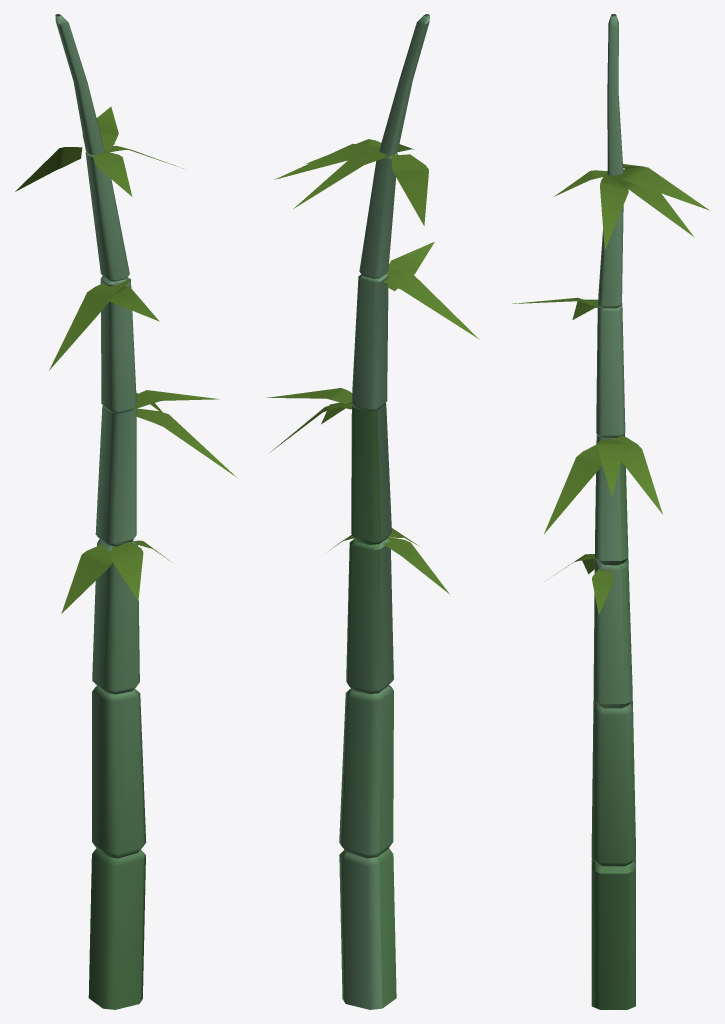
Rendered from Bamboo_1.fbx.
3 views of the same model, side by side, from view 1: azimuth 30°, elevation 25°; view 2: azimuth 150°, elevation 25°; view 3: azimuth 270°, elevation 25° (orthographic). The views are drawn at different scales.
Visible parts, largest first — view 1: polySurface5; view 2: polySurface5; view 3: polySurface5.
Boxes of the visible parts, bbox=[...] form: polySurface5: bbox=[15, 14, 236, 1009]; polySurface5: bbox=[267, 14, 479, 1009]; polySurface5: bbox=[512, 14, 709, 1009].
Size of the model in its own units: 58.07 by 286 by 54.76.
